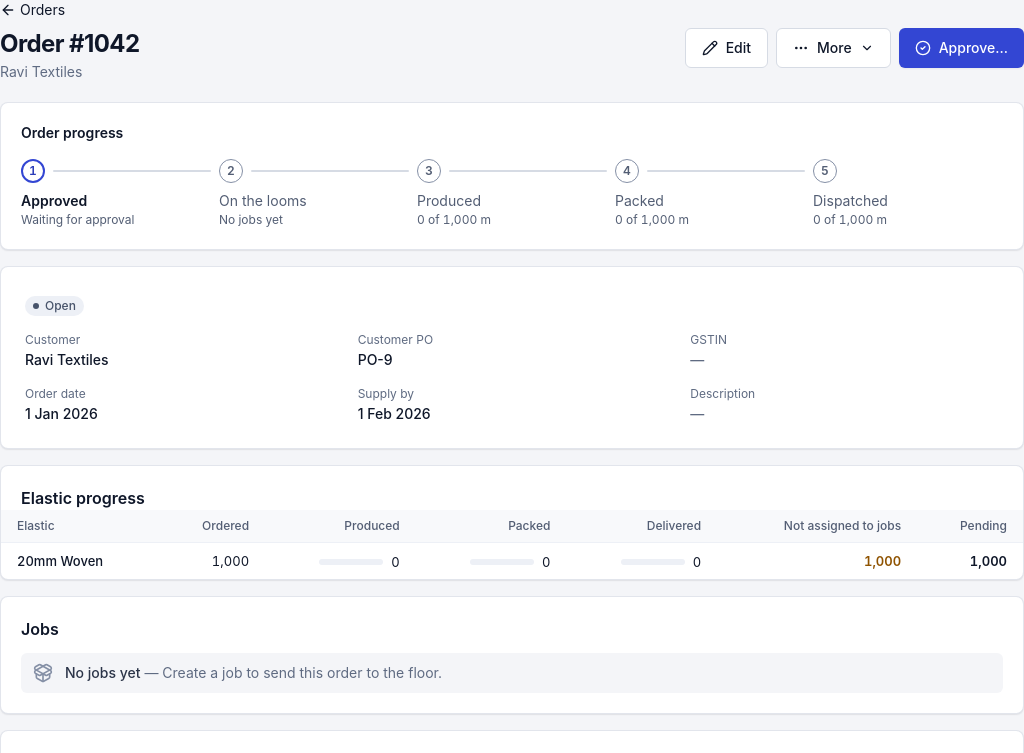
Test case: order › opens the form with the elastic lines editable
Click the button "Edit": [726, 48] box [685,28,768,68]
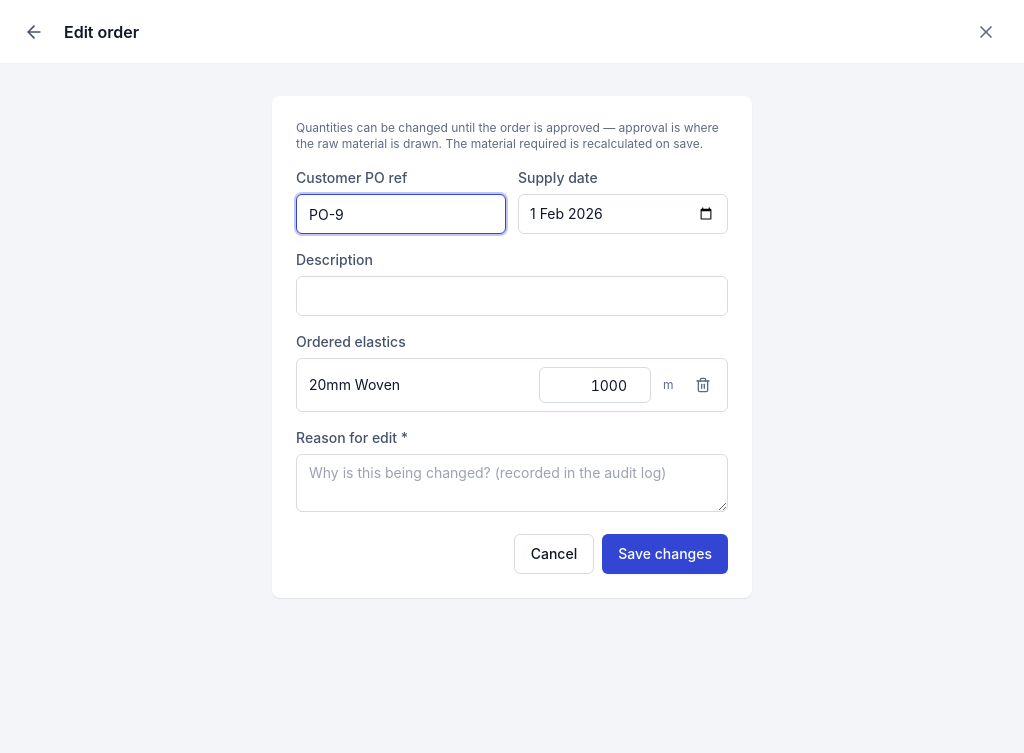
Expected: the heading "Edit order" is shown, [64,20,139,44]
Expected: the number field named "Quantity for 20mm Woven" is shown, [539,367,651,403]
